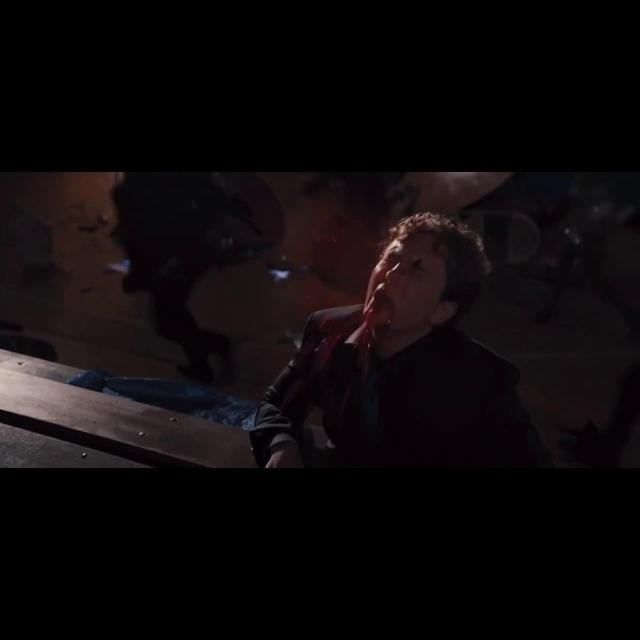blood: (296, 225, 405, 384), (412, 258, 425, 270)
